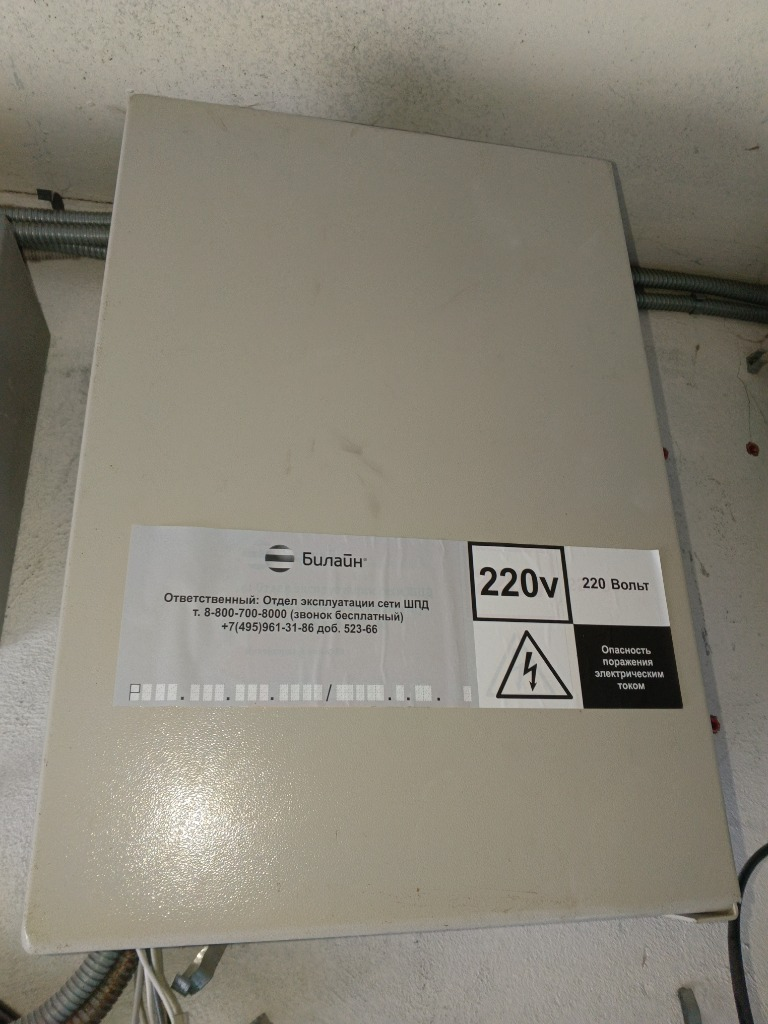sv-5: (12, 89, 750, 959)
